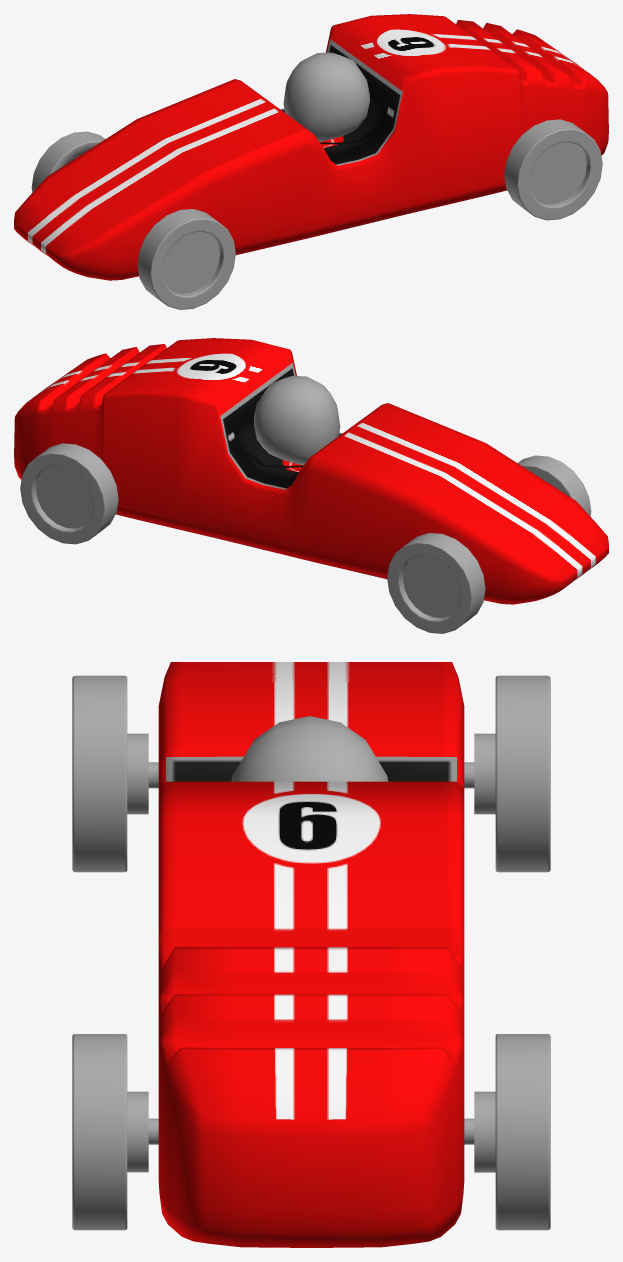
File: car_1.fbx
3 views of the same model, one above another, from view 1: azimuth 30°, elevation 25°; view 2: azimuth 150°, elevation 25°; view 3: azimuth 270°, elevation 25° (orthographic). The views are drawn at different scales.
Parts seen in each view (by area): view 1: car_body, front_left_tire, back_left_tire, helmet, front_right_tire; view 2: car_body, front_right_tire, back_right_tire, helmet, front_left_tire; view 3: car_body, front_right_tire, front_left_tire, back_left_tire, back_right_tire, helmet.
Boxes of the visible parts, x1,y1,x2,y2 form: car_body: (14, 14, 608, 280); front_left_tire: (137, 209, 235, 309); back_left_tire: (504, 119, 602, 220); helmet: (283, 52, 369, 141); front_right_tire: (31, 131, 105, 192); car_body: (14, 338, 608, 604); front_right_tire: (387, 533, 485, 633); back_right_tire: (20, 443, 118, 544); helmet: (254, 376, 340, 465); front_left_tire: (517, 455, 591, 516); car_body: (158, 662, 464, 1247); front_right_tire: (474, 675, 550, 872); front_left_tire: (72, 675, 148, 872); back_left_tire: (72, 1034, 148, 1230); back_right_tire: (474, 1034, 550, 1230); helmet: (231, 716, 388, 781).
Bounding box in the file's own units: 13.22 × 3.74 × 4.98.
